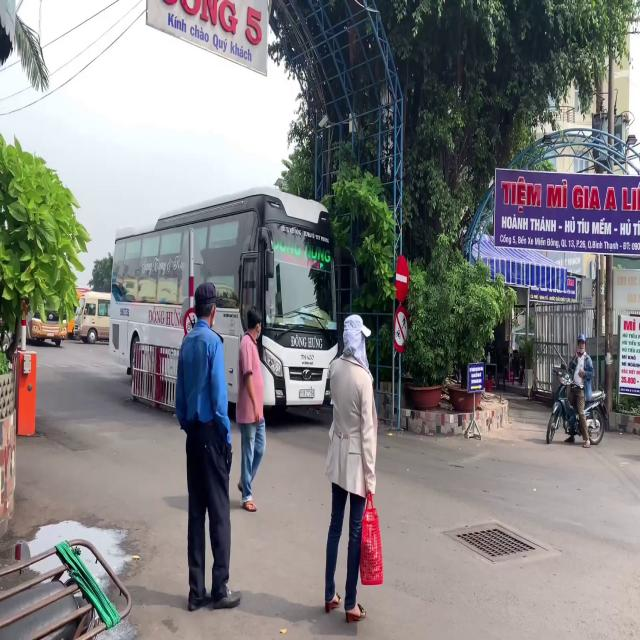bien_trang: (299, 388, 315, 398)
